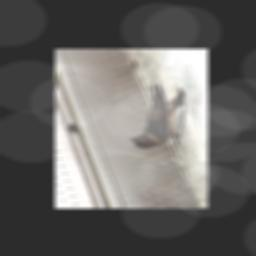Swallow: (128, 83, 187, 149)
